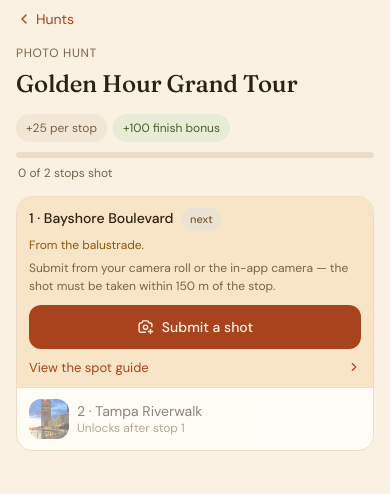
Test: Hunt detail — native capture › reports a rejected submission from the server guard
This screenshot has width=390, height=494.
Step 1. Click the button "Submit a shot" → (195, 326), box top-left (29, 304), bottom-right (361, 348)
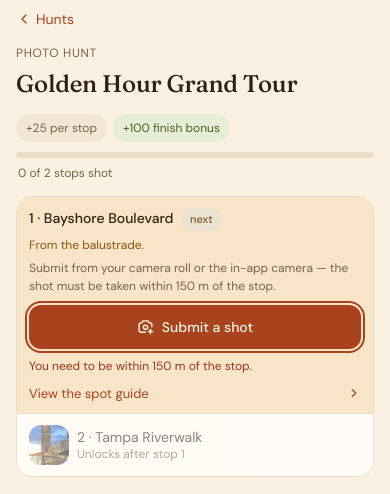
Check: the text "You need to be within 150 m of the stop." is shown, box top-left (29, 358), bottom-right (252, 374)
